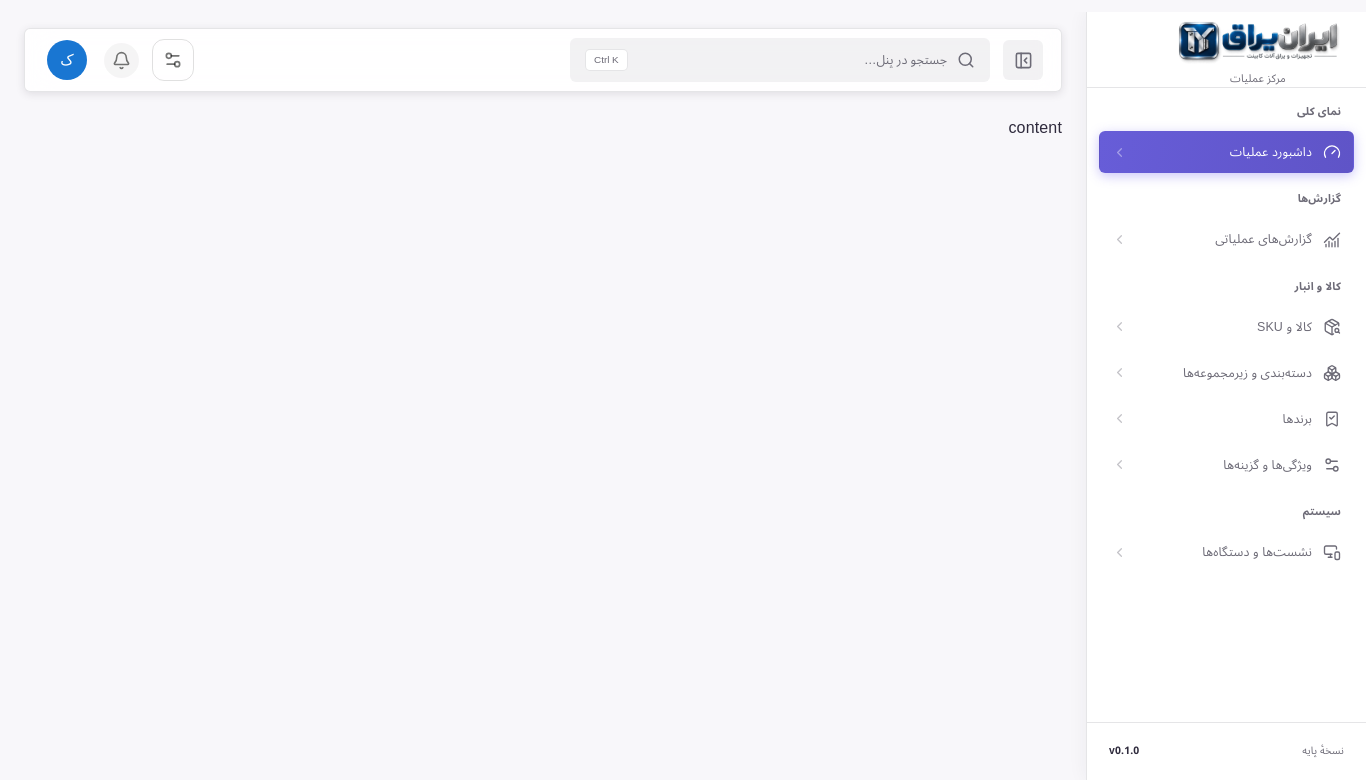
AdminShell › shows failed logout and keeps the current route available for retry
This screenshot has width=1366, height=780.
Click the button named "منوی حساب کاربری". click: click(67, 60)
box: [43,36,91,84]
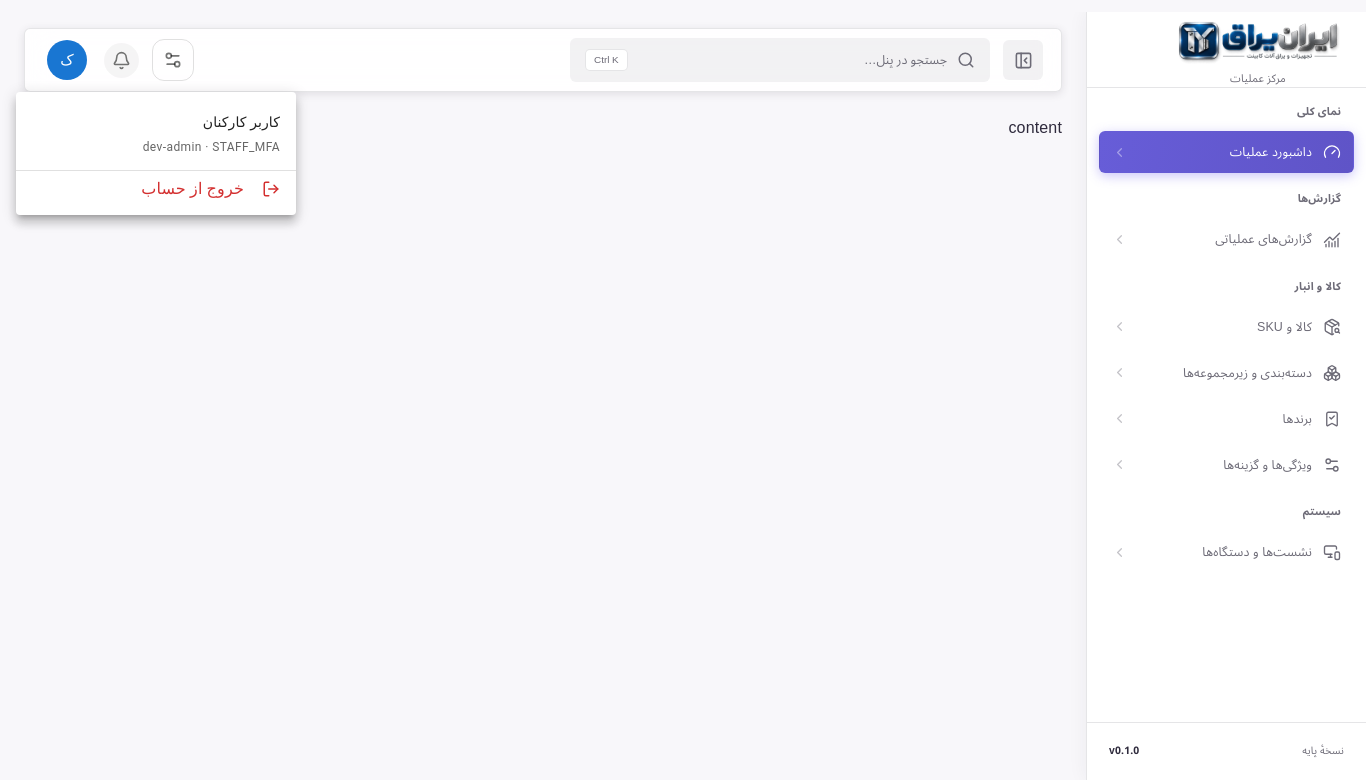
Click the menu item "خروج از حساب". click: click(211, 188)
box: [141,179,280,198]
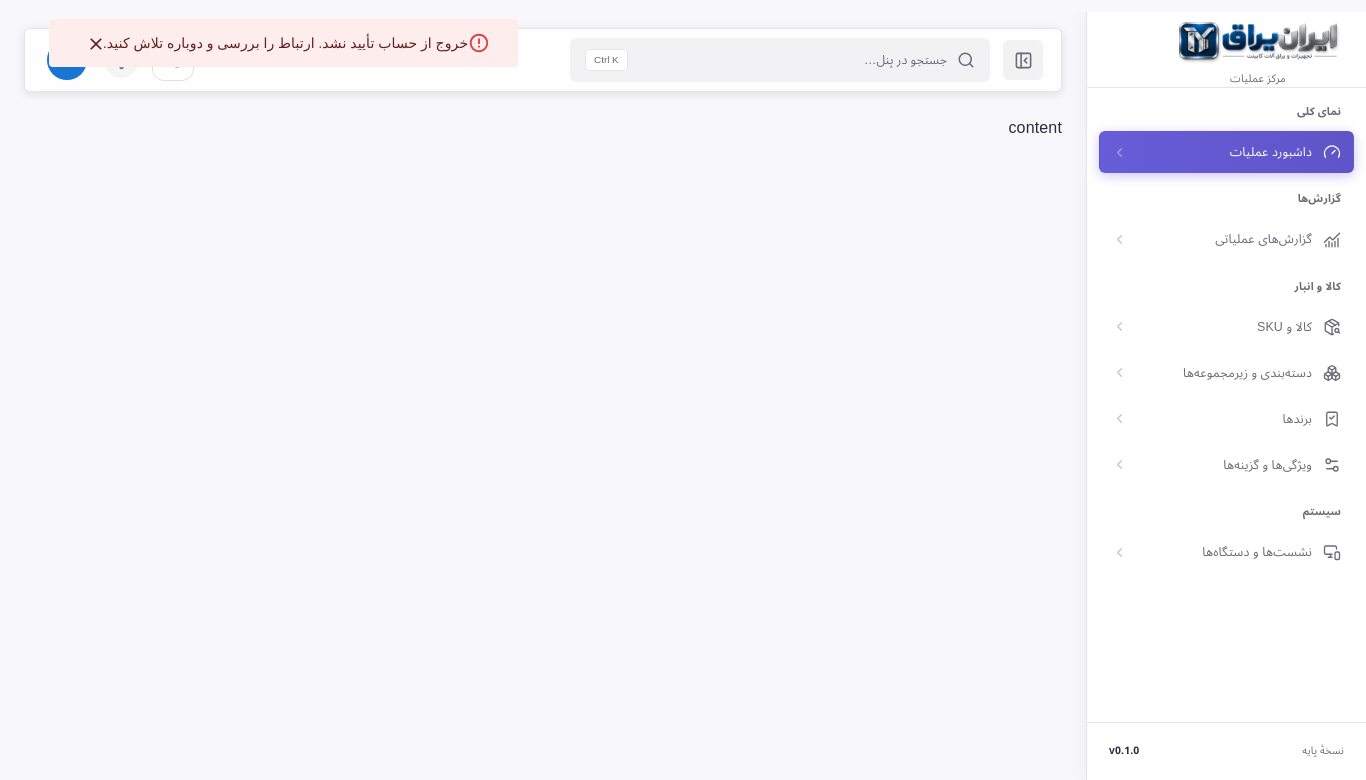
Expected: the button named "منوی حساب کاربری" is enabled, [43,36,91,84]
Expected: the message shows "خروج از حساب تأیید نشد", [103,35,468,51]
